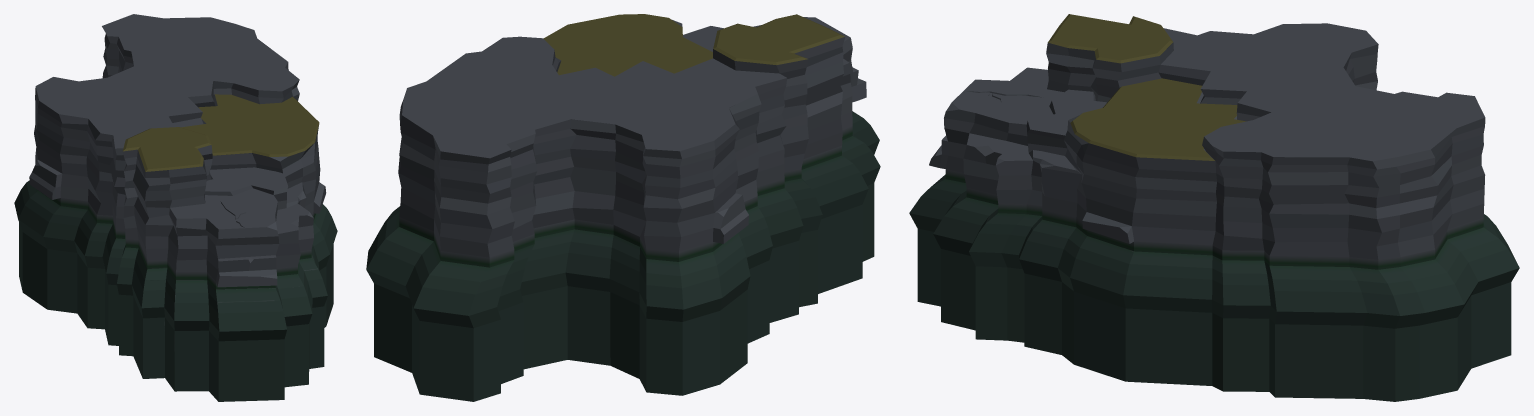
File: cliff2.glb
3 views of the same model, side by side, from view 1: azimuth 30°, elevation 25°; view 2: azimuth 150°, elevation 25°; view 3: azimuth 270°, elevation 25° (orthographic). The views are drawn at different scales.
Visible parts, largest first — view 1: Plane; view 2: Plane; view 3: Plane.
Boxes of the visible parts, bbox=[...] form: Plane: bbox=[14, 14, 337, 401]; Plane: bbox=[366, 14, 880, 401]; Plane: bbox=[909, 14, 1519, 401].
Size of the model in its own units: 24.95 by 18.35 by 41.52.
2 materials, 1 textured.
